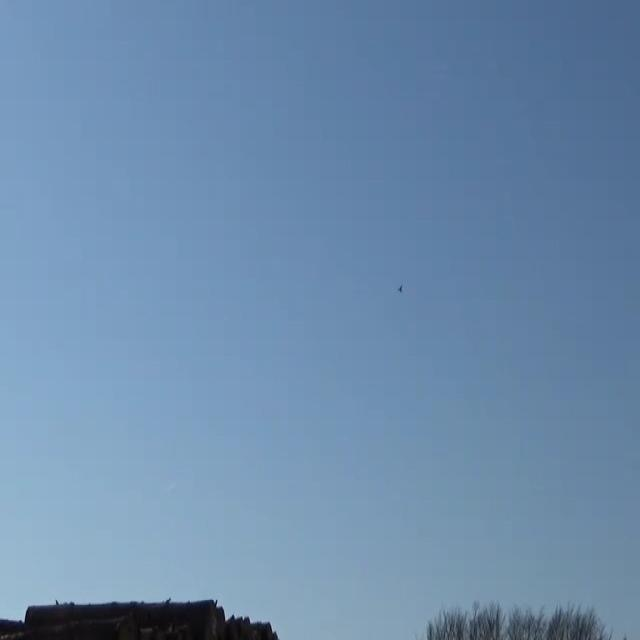bird: (396, 283, 407, 295)
